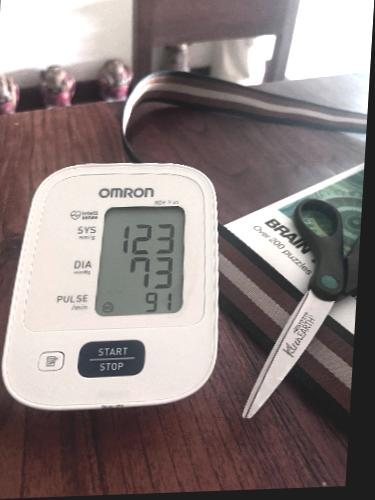bpm: (92, 202, 186, 319)
